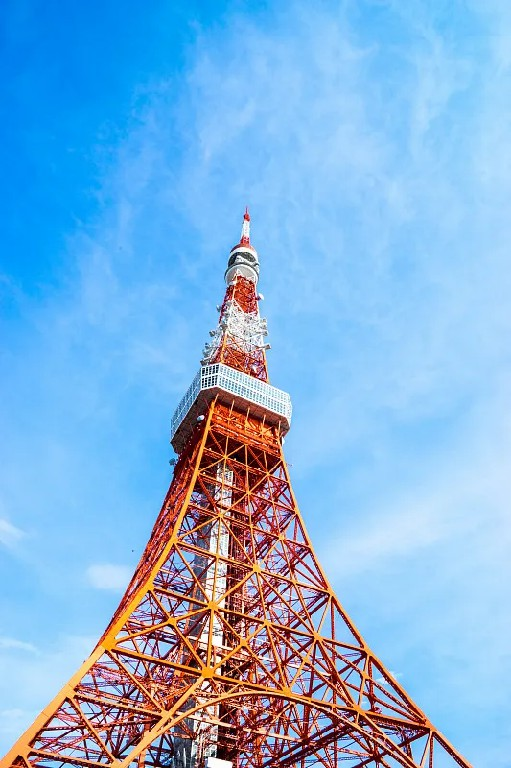Tokyo: (1, 201, 471, 768)
